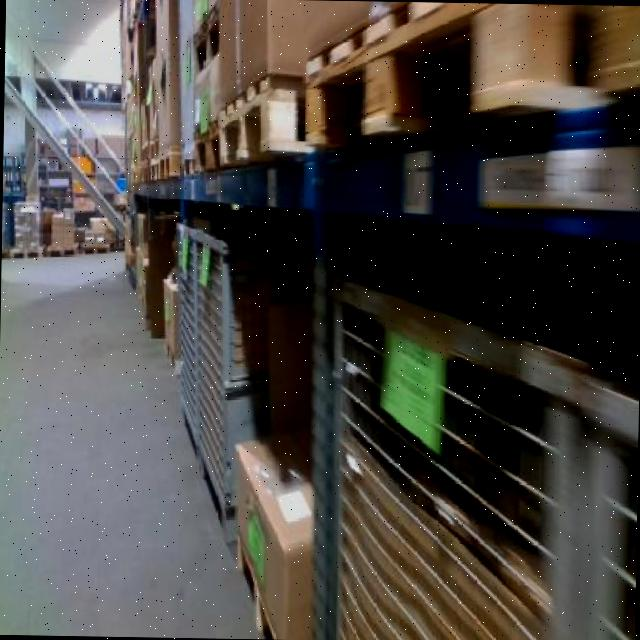pallet: (291, 1, 640, 176), (208, 60, 322, 173), (184, 113, 234, 178), (142, 146, 196, 188), (40, 241, 79, 260), (4, 242, 46, 258), (71, 241, 112, 257)
